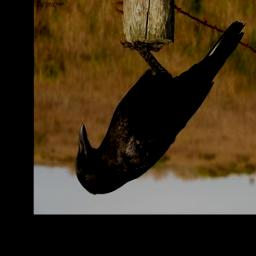Crow: (75, 21, 247, 195)
